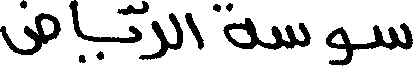ا: (66, 0, 86, 45), (184, 10, 203, 50)
ة: (212, 1, 256, 50)
ر: (139, 16, 167, 60)
س: (369, 21, 411, 50), (270, 21, 308, 50)
ض: (0, 0, 61, 56)
ل: (169, 10, 184, 50)
و: (326, 24, 352, 64)
ي: (79, 22, 141, 61)
